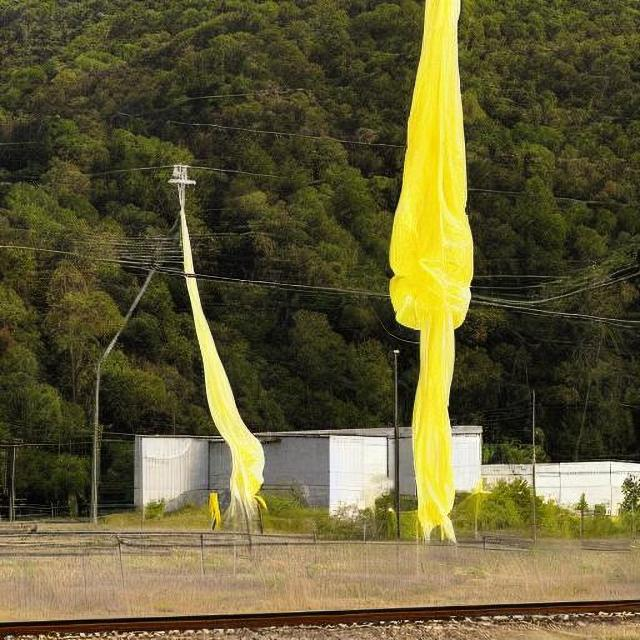floating object: (387, 1, 472, 540), (386, 260, 470, 536), (390, 6, 467, 280), (190, 275, 268, 522), (208, 488, 222, 530)
